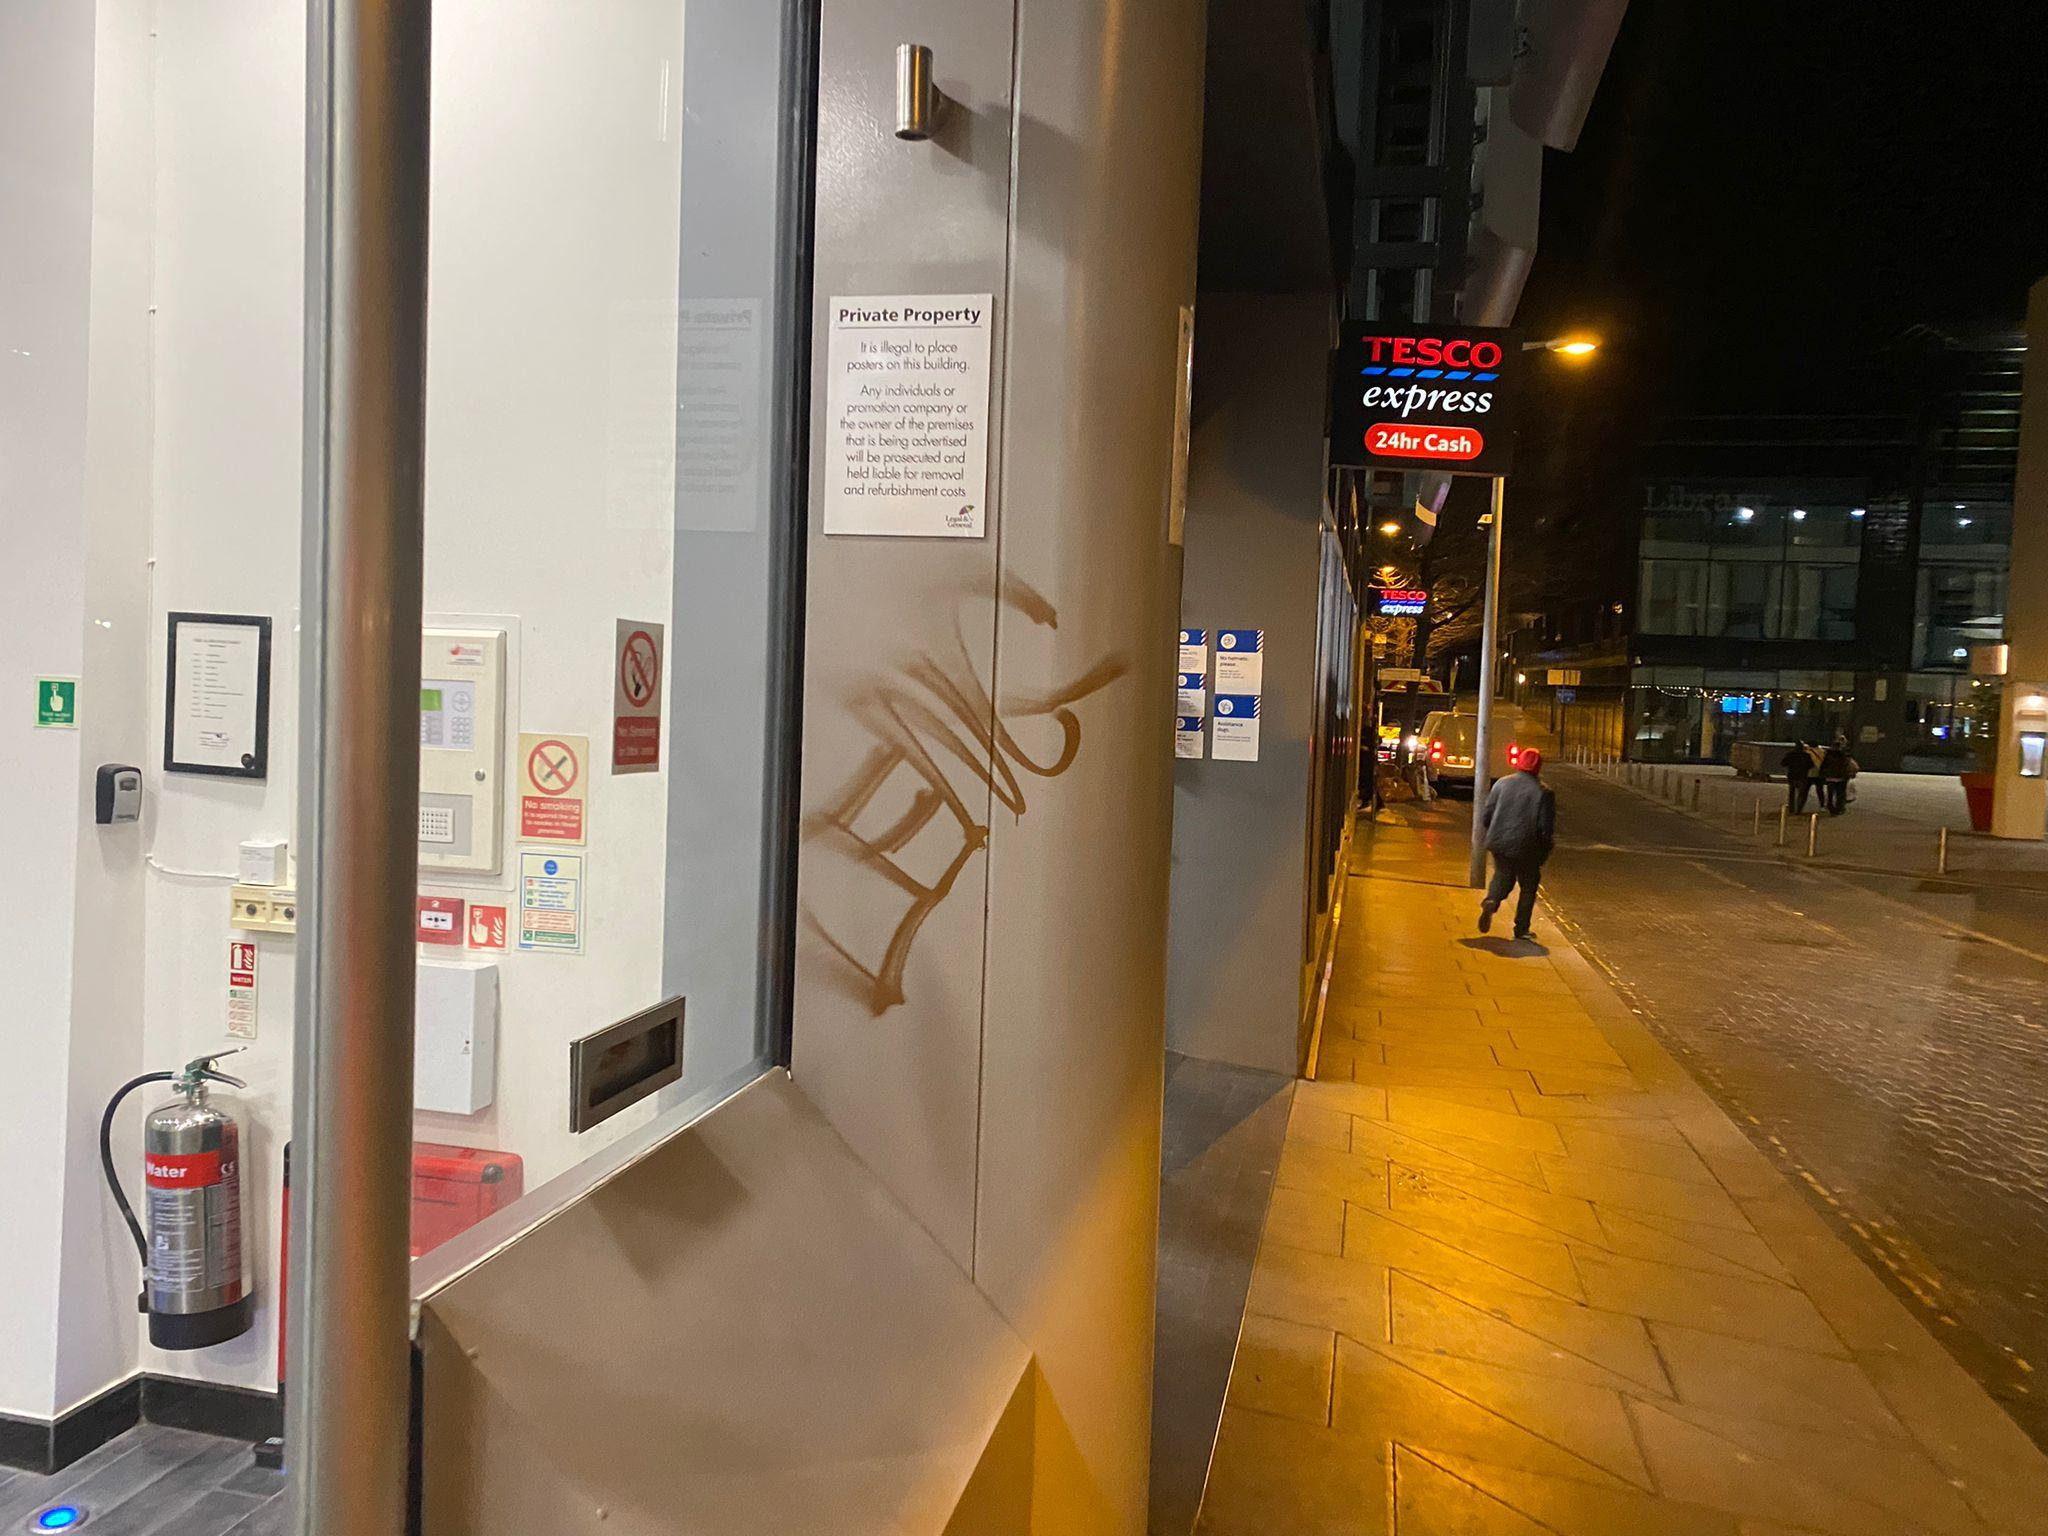graffiti: (785, 574, 1130, 1062)
